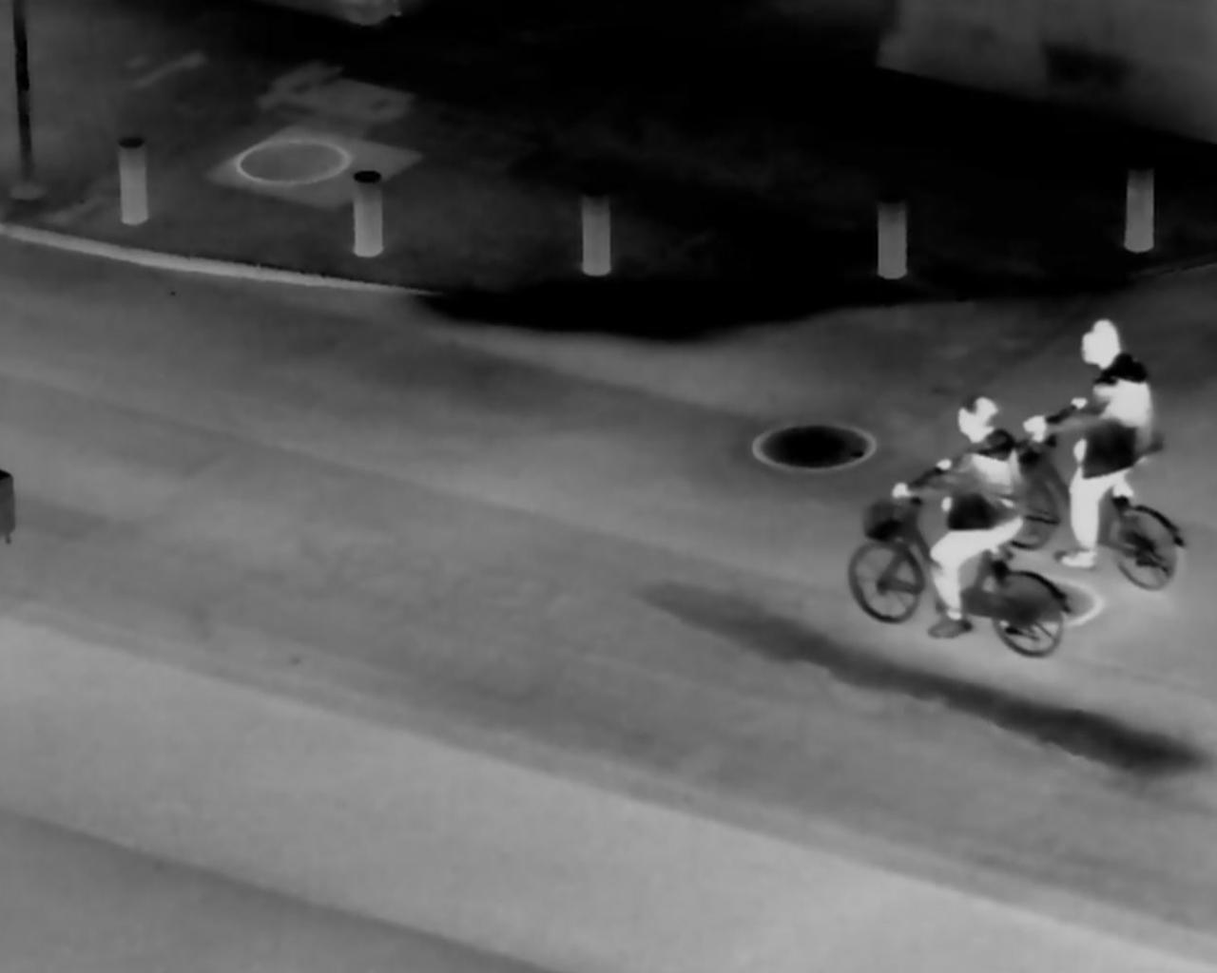person: (1022, 296, 1169, 569), (894, 390, 1034, 645)
